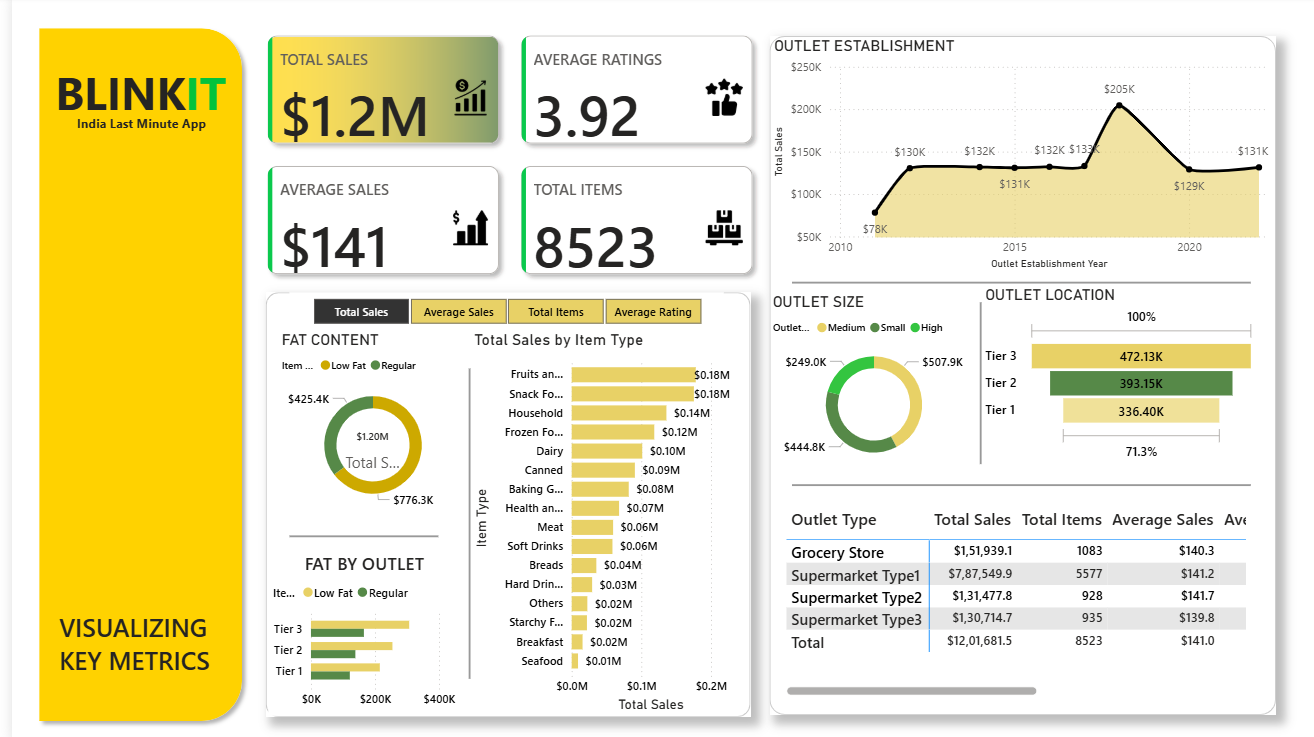

The dashboard page shown, as its layout file describes it:
{"tool":"powerbi","page":{"name":"Page 1","canvas":[1400,800],"ordinal":0},"visuals":[{"type":"shape","box":[19.5,25.3,235.5,761.1],"z":0},{"type":"textbox","box":[28,65.3,219.3,77.8],"z":1000},{"type":"textbox","box":[63.8,121.3,149.3,43.6],"z":2000},{"type":"cardVisual","fields":{"Data":["BlinkIT Grocery Data.Total Sales","BlinkIT Grocery Data.Average Rating","BlinkIT Grocery Data.Average Sales","BlinkIT Grocery Data.Total Items"]},"box":[257,25.3,554.8,292],"z":3000},{"type":"shape","box":[272.5,317.3,519.8,455.5],"z":4000},{"type":"donutChart","title":"FAT CONTENT","fields":{"Y":["BlinkIT Grocery Data.Total Sales"],"Category":["BlinkIT Grocery Data.Item Fat Content"]},"box":[284.2,358.2,206.3,200.5],"z":5000},{"type":"slicer","fields":{"Values":["Metrics.Metrics"]},"box":[297.8,317.3,465.2,40.9],"z":6000},{"type":"card","fields":{"Values":["BlinkIT Grocery Data.Total Sales"]},"box":[350.4,459.4,74,52.6],"z":7000},{"type":"clusteredBarChart","title":"FAT BY OUTLET","fields":{"Y":["BlinkIT Grocery Data.Total Sales"],"Category":["BlinkIT Grocery Data.Outlet Location Type"],"Series":["BlinkIT Grocery Data.Item Fat Content"]},"box":[274.5,595.7,206.3,177.1],"z":8000},{"type":"shape","box":[297.8,558.7,159.6,40.9],"z":9000},{"type":"shape","box":[473,399.1,35,332.9],"z":10000},{"type":"barChart","fields":{"Y":["BlinkIT Grocery Data.Total Sales"],"Category":["BlinkIT Grocery Data.Item Type"]},"box":[490.6,358.2,301.7,414.6],"z":11000},{"type":"shape","box":[811.7,42.8,543.1,728],"z":12000},{"type":"lineChart","title":"OUTLET ESTABLISHMENT","fields":{"Category":["BlinkIT Grocery Data.Outlet Establishment Year"],"Y":["BlinkIT Grocery Data.Total Sales"]},"box":[811.7,42.8,543.1,255],"z":13000},{"type":"donutChart","title":"OUTLET SIZE","fields":{"Y":["BlinkIT Grocery Data.Total Sales"],"Category":["BlinkIT Grocery Data.Outlet Size"]},"box":[811.1,317.2,227.2,194.1],"z":14000},{"type":"shape","box":[1021,328.2,34.7,173.6],"z":15000},{"type":"shape","box":[836.4,287.2,492.3,41],"z":16000},{"type":"funnel","title":"OUTLET LOCATION","fields":{"Category":["BlinkIT Grocery Data.Outlet Location Type"],"Y":["Sum(BlinkIT Grocery Data.Sales)"]},"box":[1038.3,309.3,299.8,192.5],"z":17000},{"type":"shape","box":[836.4,503.4,492.3,41],"z":18000},{"type":"pivotTable","fields":{"Rows":["BlinkIT Grocery Data.Outlet Type"],"Values":["BlinkIT Grocery Data.Total Sales","BlinkIT Grocery Data.Total Items","BlinkIT Grocery Data.Average Sales","BlinkIT Grocery Data.Average Rating","Sum(BlinkIT Grocery Data.Item Visibility)"]},"box":[826,543.4,502.2,211.9],"z":19000},{"type":"textbox","box":[45.6,654.2,181,88.5],"z":19001}]}

Visuals, with their boxes in screenshot pixels (x1, y1, x2, y2), scaled from the page's 1400x800 canvas onto the 1314x737 screenshot:
shape: {"left": 18, "top": 23, "right": 239, "bottom": 724}
textbox: {"left": 26, "top": 60, "right": 232, "bottom": 132}
textbox: {"left": 60, "top": 112, "right": 200, "bottom": 152}
cardVisual - BlinkIT Grocery Data.Total Sales x BlinkIT Grocery Data.Average Rating: {"left": 241, "top": 23, "right": 762, "bottom": 292}
shape: {"left": 256, "top": 292, "right": 744, "bottom": 712}
"FAT CONTENT" donutChart: {"left": 267, "top": 330, "right": 460, "bottom": 515}
slicer - Metrics.Metrics: {"left": 280, "top": 292, "right": 716, "bottom": 330}
card - BlinkIT Grocery Data.Total Sales: {"left": 329, "top": 423, "right": 398, "bottom": 472}
"FAT BY OUTLET" clusteredBarChart: {"left": 258, "top": 549, "right": 451, "bottom": 712}
shape: {"left": 280, "top": 515, "right": 429, "bottom": 552}
shape: {"left": 444, "top": 368, "right": 477, "bottom": 674}
barChart - BlinkIT Grocery Data.Total Sales x BlinkIT Grocery Data.Item Type: {"left": 460, "top": 330, "right": 744, "bottom": 712}
shape: {"left": 762, "top": 39, "right": 1272, "bottom": 710}
"OUTLET ESTABLISHMENT" lineChart: {"left": 762, "top": 39, "right": 1272, "bottom": 274}
"OUTLET SIZE" donutChart: {"left": 761, "top": 292, "right": 975, "bottom": 471}
shape: {"left": 958, "top": 302, "right": 991, "bottom": 462}
shape: {"left": 785, "top": 265, "right": 1247, "bottom": 302}
"OUTLET LOCATION" funnel: {"left": 975, "top": 285, "right": 1256, "bottom": 462}
shape: {"left": 785, "top": 464, "right": 1247, "bottom": 502}
pivotTable - BlinkIT Grocery Data.Outlet Type x BlinkIT Grocery Data.Total Sales: {"left": 775, "top": 501, "right": 1247, "bottom": 696}
textbox: {"left": 43, "top": 603, "right": 213, "bottom": 684}
